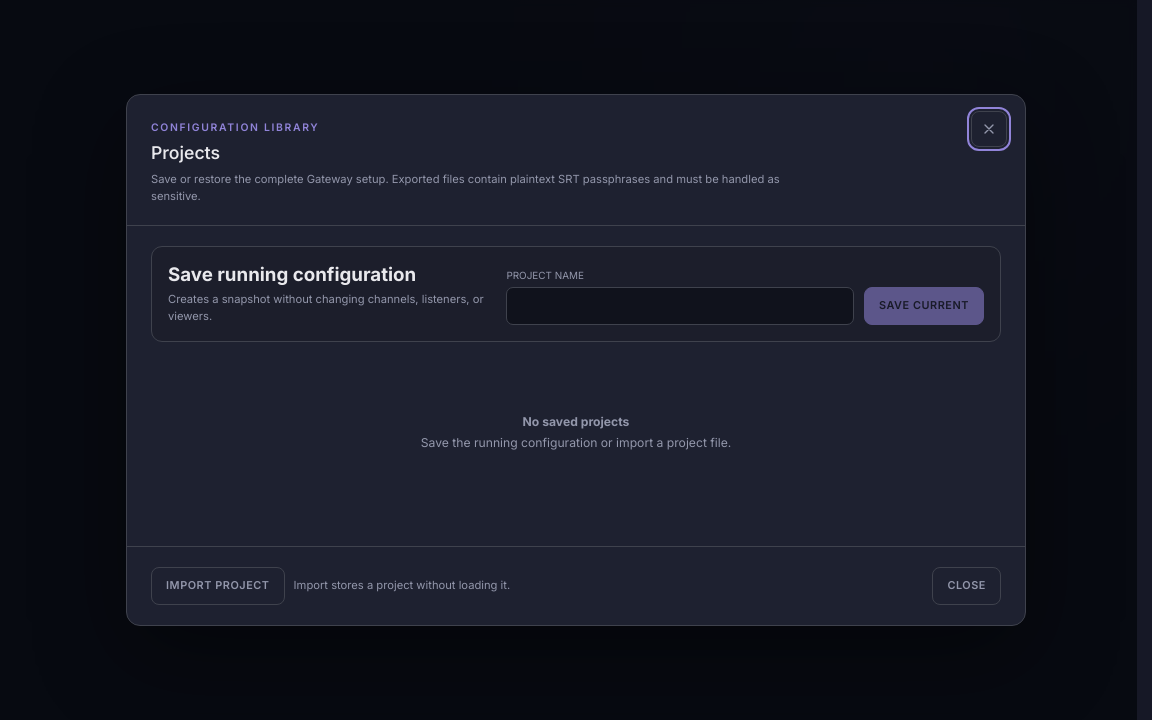
Scenario: ProjectsDialog › saves the running configuration without loading it
Expected: the text "No saved projects" is shown, [523,414,629,429]
In the field labelled "Project name": x=680, y=306 [506,287,854,325], type "Event A"
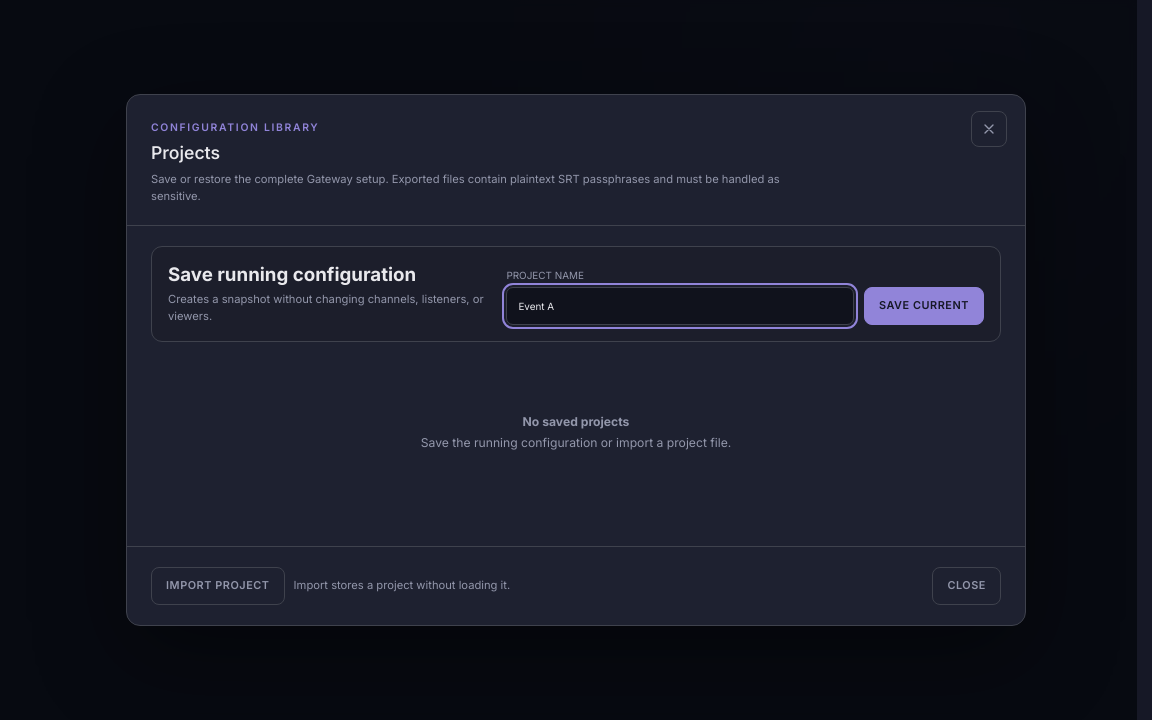
Click the button "Save current": x=924, y=306 [864,287,984,325]
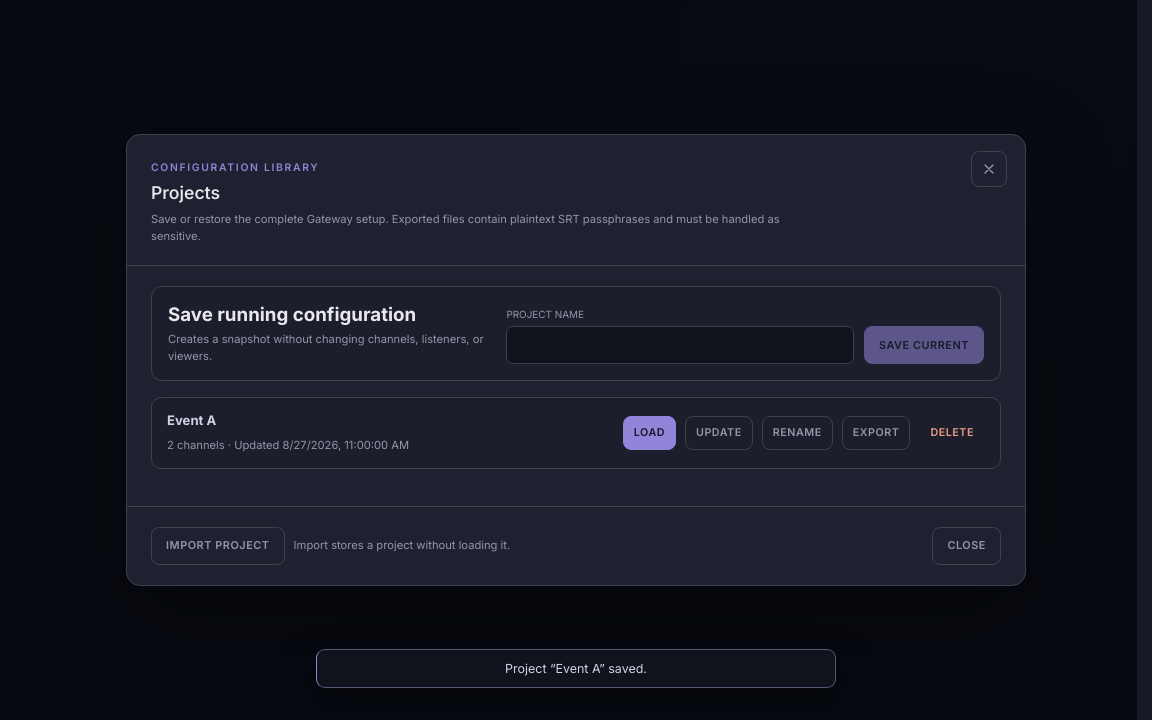
Expected: the text "Event A" is shown, [167,412,216,428]
